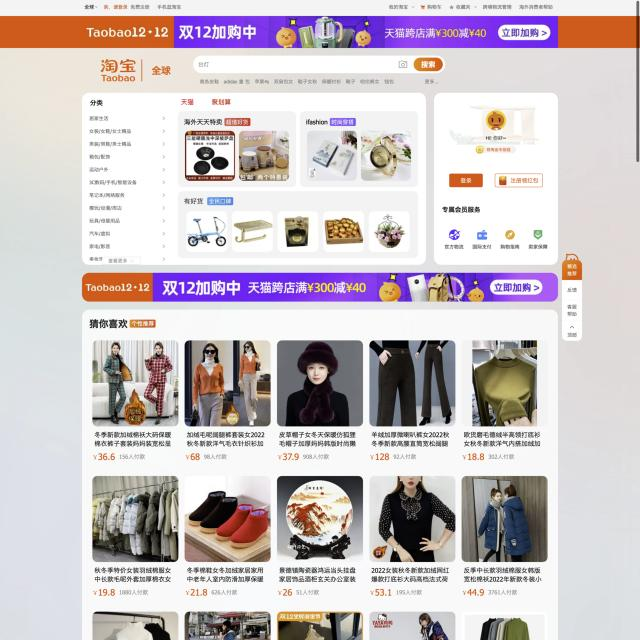input: (192, 55, 446, 75)
logo: (95, 58, 138, 84)
navigation: (85, 112, 168, 264), (80, 0, 557, 16), (197, 77, 441, 87)
